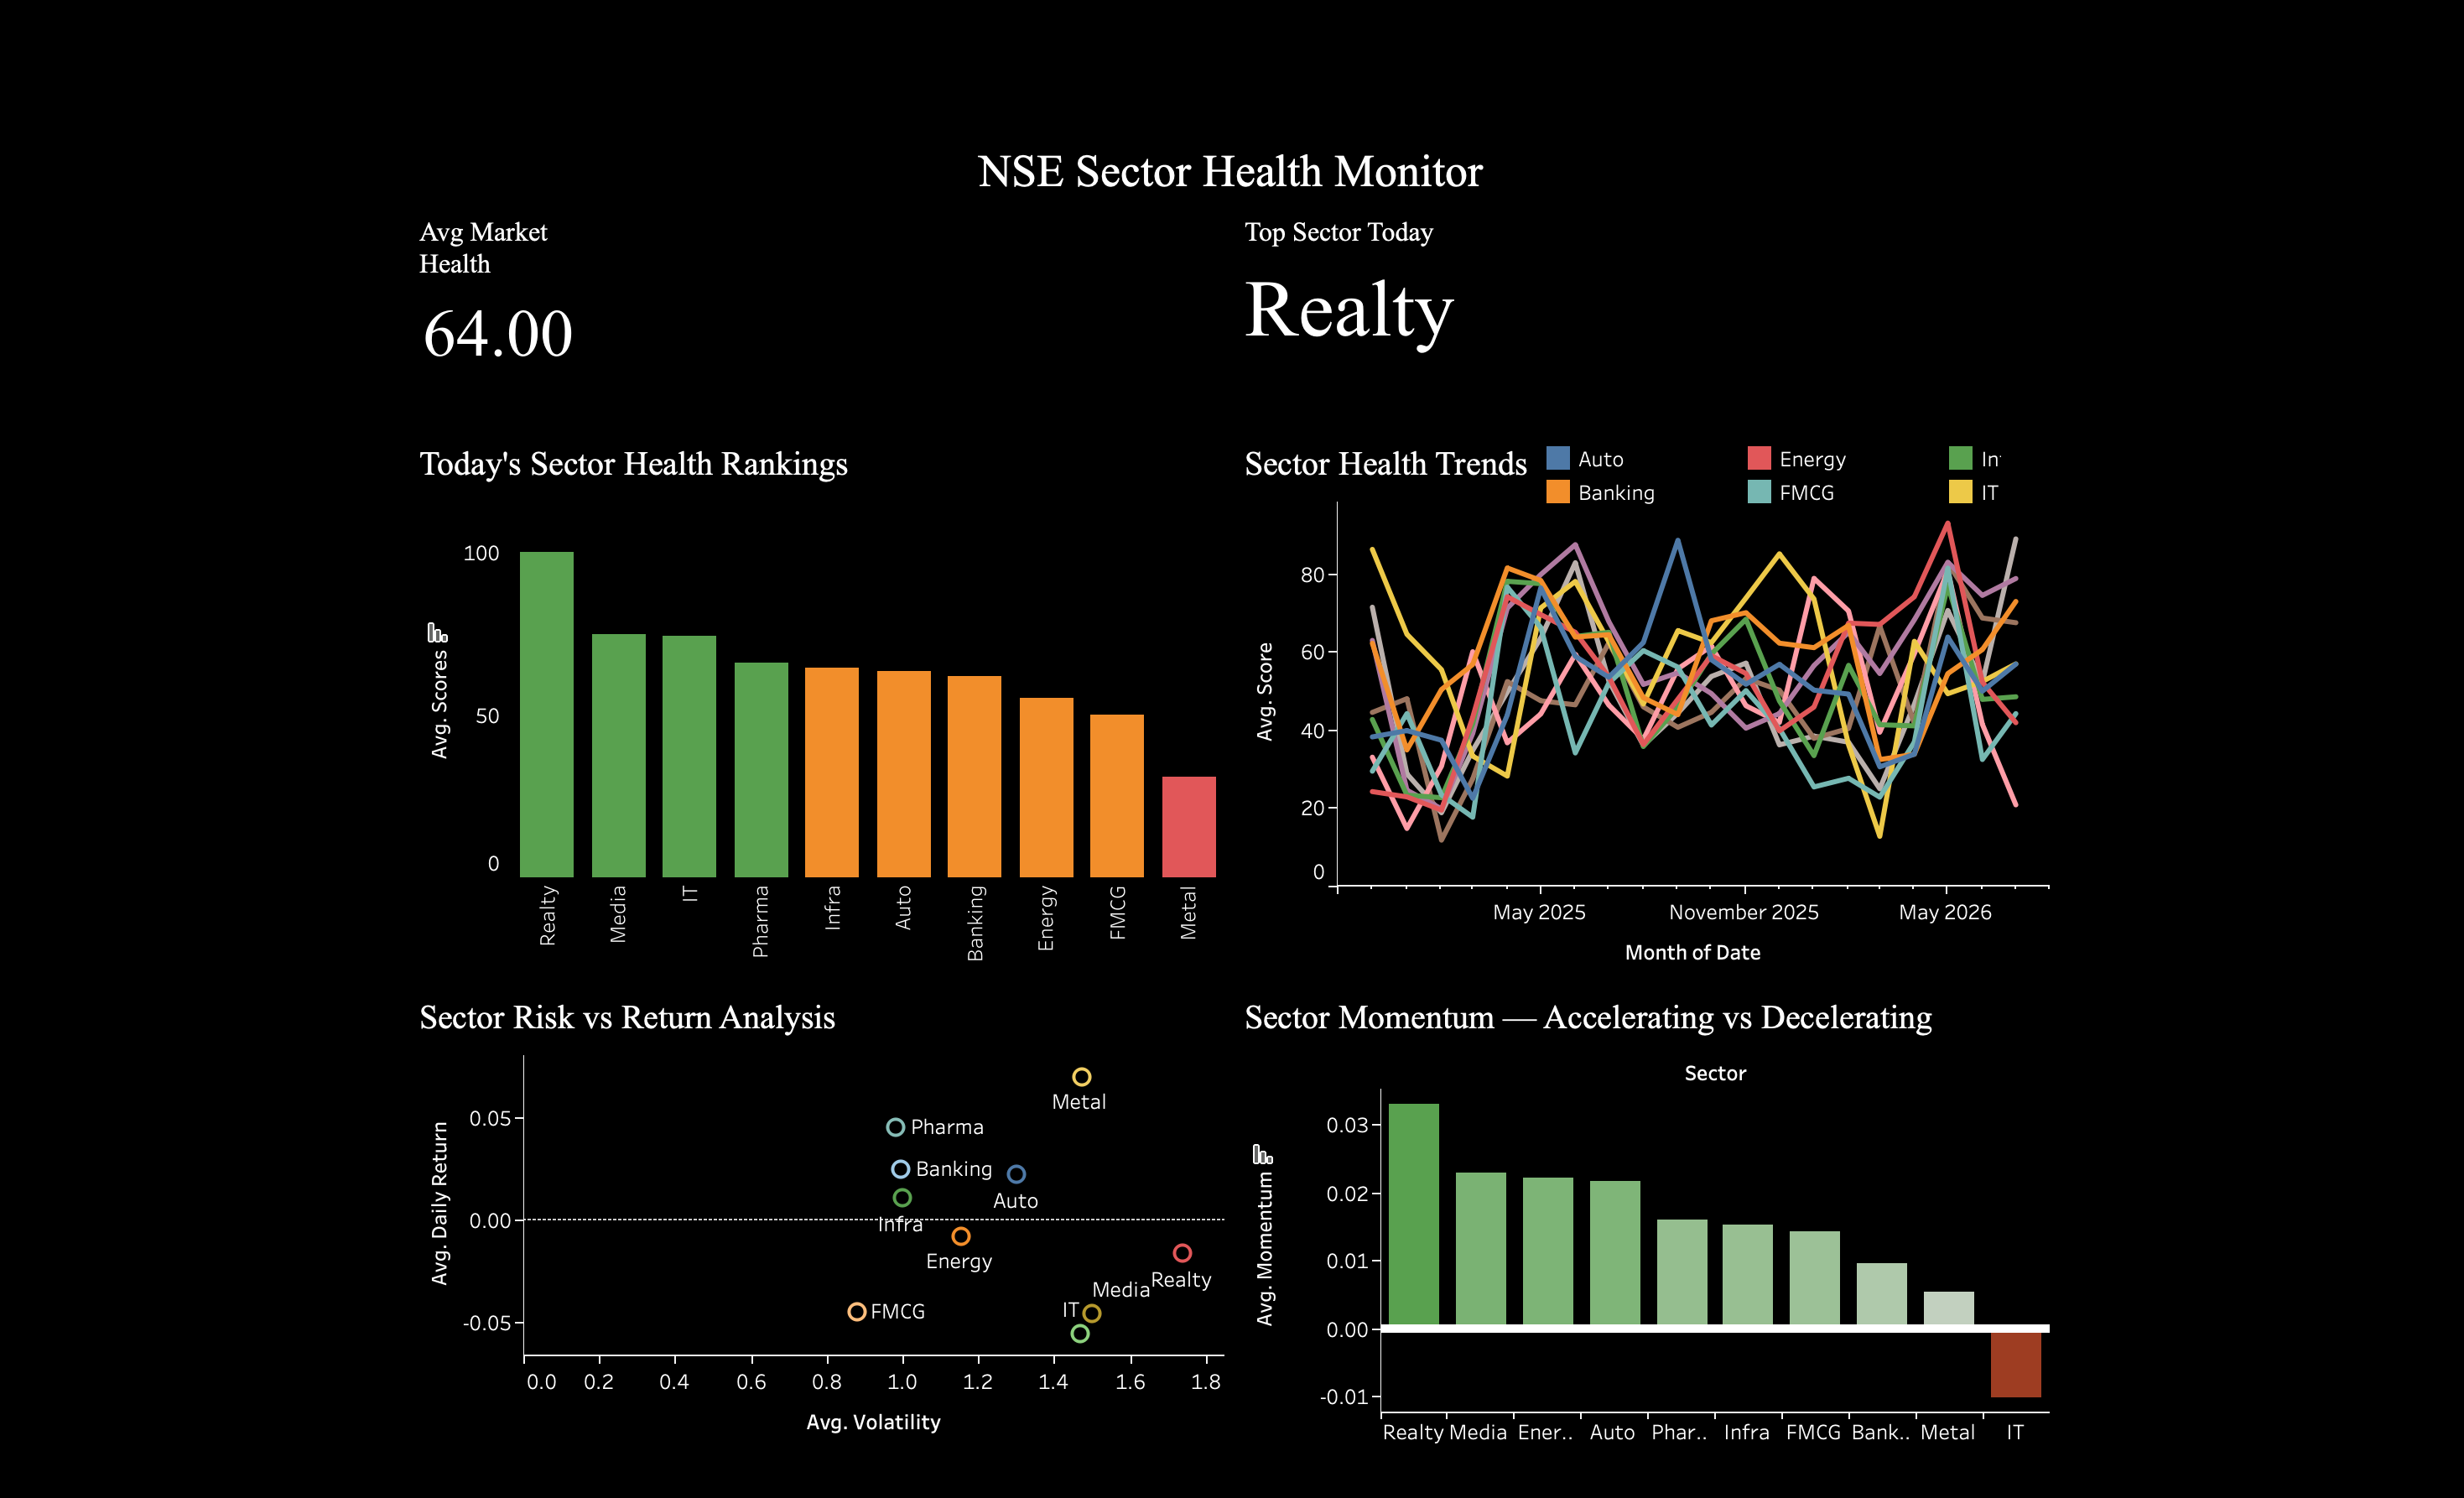

Layout of this report page (visuals, bound fields, positions):
{"tool":"tableau","page":{"name":"Dashboard 2","canvas":[1000,800],"ordinal":0},"visuals":[{"type":"title","box":[8,8,984,38]},{"type":"worksheet","title":"Sheet 7","mark":"Text","box":[8,46,492,136]},{"type":"worksheet","title":"Sheet 8","mark":"Text","box":[500,46,492,136]},{"type":"worksheet","title":"Rankings","mark":"Automatic","rows":["Scores"],"cols":["Ticker"],"box":[8,182,492,330.2]},{"type":"worksheet","title":"Sector Health Trends","mark":"Automatic","rows":["Pivot Field Values"],"cols":["Date"],"box":[500,182,492,330.2]},{"type":"legend","title":"Sector Health Trends","param":"[federated.16nzfan0k9p1w81fix9wz0b2mdhc].[none:Pivot Field Names:nk]","box":[685,188,276,74]},{"type":"worksheet","title":"Risk vs Return","mark":"Automatic","rows":["Daily_Return"],"cols":["Volatility"],"box":[8,512.2,492,279.8]},{"type":"worksheet","title":"Momentum","mark":"Automatic","rows":["Momentum"],"cols":["Sector"],"box":[500,512.2,492,279.8]}]}

Visuals, with their boxes on the page's 1000x800 design canvas (x1, y1, x2, y2). These are canvas units, not pixel positions in the 2464x1498 screenshot, which may show the page scaled, cropped or inside an application window:
title: <bbox>8, 8, 992, 46</bbox>
"Sheet 7" worksheet (Text marks): <bbox>8, 46, 500, 182</bbox>
"Sheet 8" worksheet (Text marks): <bbox>500, 46, 992, 182</bbox>
"Rankings" worksheet: <bbox>8, 182, 500, 512</bbox>
"Sector Health Trends" worksheet: <bbox>500, 182, 992, 512</bbox>
"Sector Health Trends" legend: <bbox>685, 188, 961, 262</bbox>
"Risk vs Return" worksheet: <bbox>8, 512, 500, 792</bbox>
"Momentum" worksheet: <bbox>500, 512, 992, 792</bbox>
